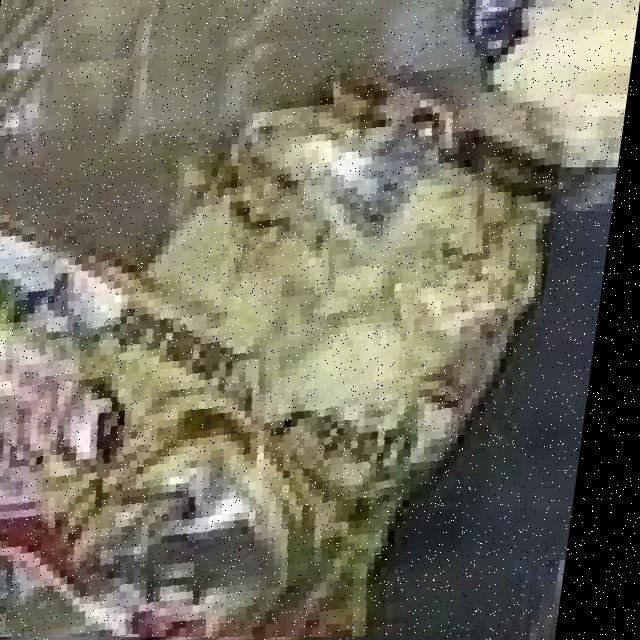can: (0, 30, 567, 637)
